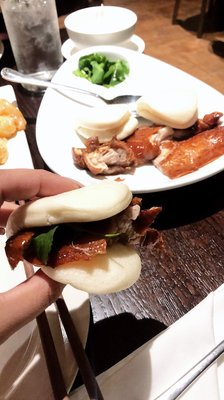curry: (74, 52, 130, 87)
pizza: (1, 0, 65, 80)
soup: (4, 178, 153, 296)
sushi: (64, 6, 138, 49)
